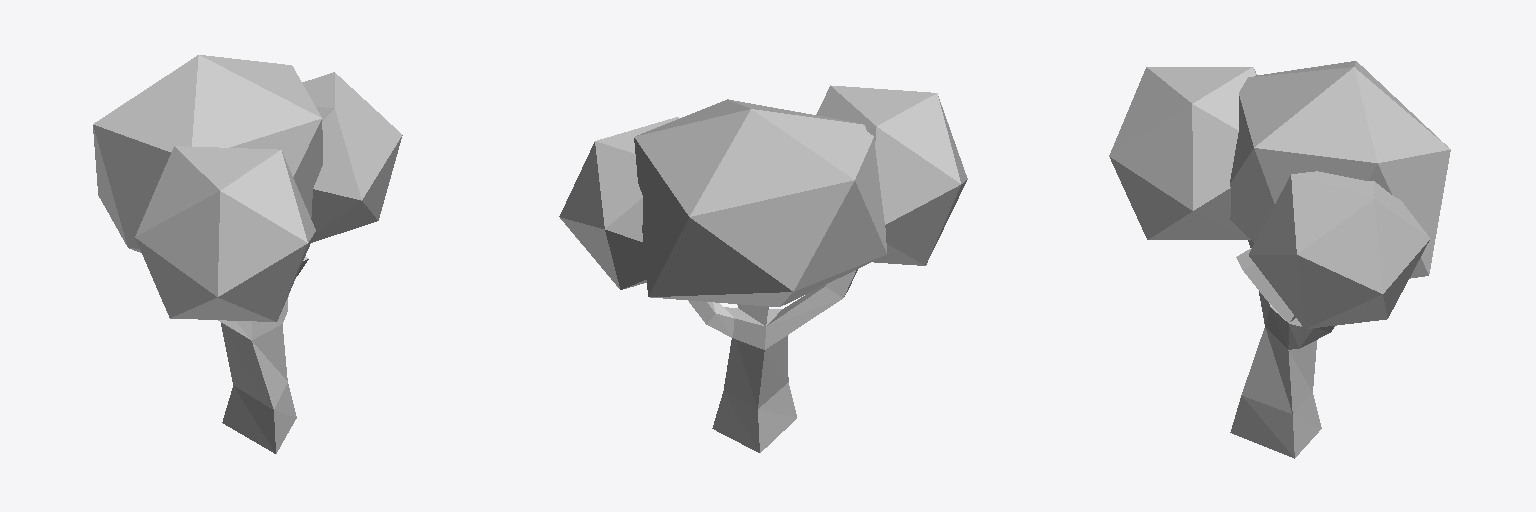
File: tree.obj
The picture shows the model from 3 angles: view 1: azimuth 30°, elevation 25°; view 2: azimuth 150°, elevation 25°; view 3: azimuth 270°, elevation 25°; orthographic projection.
Visible parts, largest first — view 1: GeoSphere155, GeoSphere154, GeoSphere153, Gengon092; view 2: GeoSphere154, GeoSphere155, Gengon092, GeoSphere153; view 3: GeoSphere154, GeoSphere153, GeoSphere155, Gengon092.
Boxes of the visible parts, x1=… form: GeoSphere155: x1=135, y1=146, x2=315, y2=321; GeoSphere154: x1=93, y1=55, x2=322, y2=252; GeoSphere153: x1=302, y1=72, x2=402, y2=242; Gengon092: x1=218, y1=256, x2=308, y2=453; GeoSphere154: x1=634, y1=99, x2=886, y2=306; GeoSphere155: x1=816, y1=85, x2=967, y2=265; Gengon092: x1=688, y1=269, x2=857, y2=452; GeoSphere153: x1=559, y1=117, x2=679, y2=289; GeoSphere154: x1=1230, y1=61, x2=1450, y2=278; GeoSphere153: x1=1249, y1=171, x2=1429, y2=328; GeoSphere155: x1=1109, y1=67, x2=1256, y2=239; Gengon092: x1=1230, y1=240, x2=1334, y2=458.
Size of the model in its own units: 1925 by 2095 by 1812.